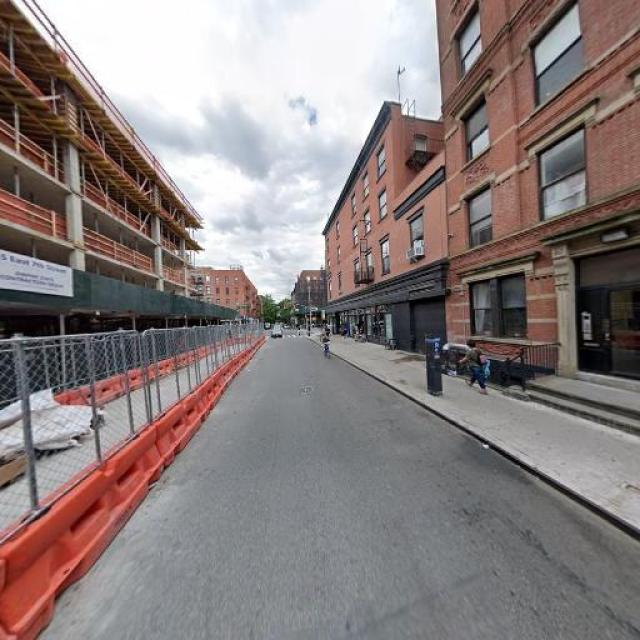Building: (1, 1, 200, 404), (449, 1, 640, 412), (325, 92, 445, 362)
